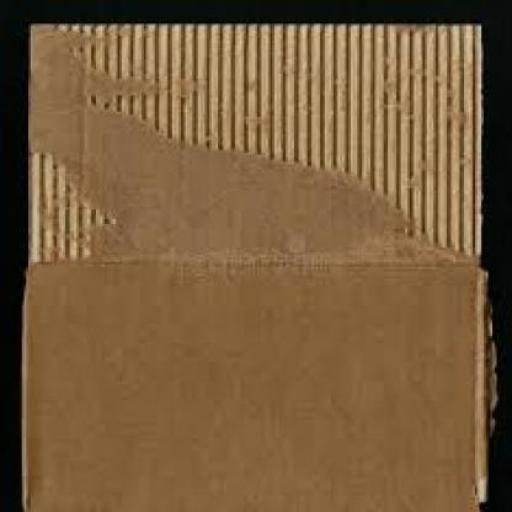cardboard: (17, 19, 497, 510)
